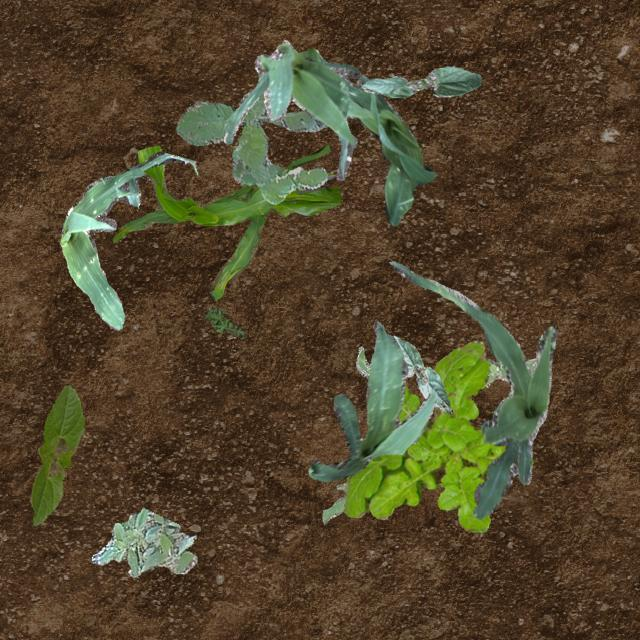crop: (388, 260, 556, 518), (112, 144, 340, 302), (58, 150, 196, 328), (298, 46, 434, 225), (308, 320, 436, 480), (222, 40, 360, 178), (29, 384, 84, 524), (392, 334, 452, 414), (360, 65, 480, 96)
weed: (342, 339, 504, 532), (175, 92, 326, 204), (322, 346, 372, 522), (90, 508, 196, 576), (484, 358, 534, 386), (203, 306, 244, 338), (120, 520, 128, 526)
